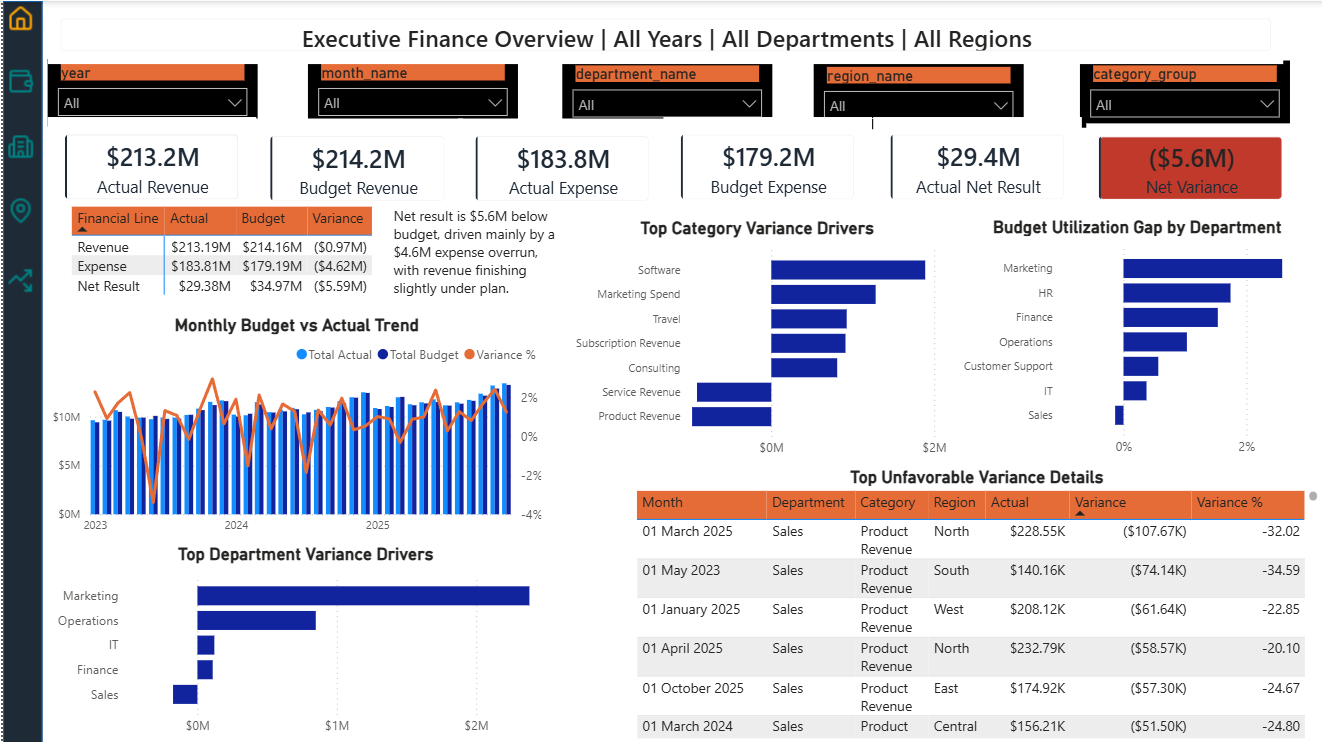

Layout of this report page (visuals, bound fields, positions):
{"tool":"powerbi","page":{"name":"Executive Overview","canvas":[1280,720],"ordinal":0},"visuals":[{"type":"shape","box":[0,0,38.3,720],"z":0,"group":"g1"},{"type":"slicer","fields":{"Values":["dim_date.year"]},"box":[42.7,56.9,203.9,65.2],"z":0},{"type":"slicer","fields":{"Values":["dim_date.month_name"]},"box":[296.3,56.9,203.9,65.2],"z":1000},{"type":"actionButton","box":[0,60,40,34.3],"z":1000,"group":"g1"},{"type":"slicer","fields":{"Values":["dim_department.department_name"]},"box":[542.8,58.1,203.9,65.2],"z":2000},{"type":"actionButton","box":[0,124.3,40,34.3],"z":2000,"group":"g1"},{"type":"slicer","fields":{"Values":["dim_region.region_name"]},"box":[785.8,59.3,203.9,65.2],"z":3000},{"type":"actionButton","box":[0,185.7,40,34.3],"z":3000,"group":"g1"},{"type":"slicer","fields":{"Values":["dim_category.category_group"]},"box":[1044.1,58.1,203.9,65.2],"z":4000},{"type":"actionButton","box":[0,254.3,40,34.3],"z":4000,"group":"g1"},{"type":"actionButton","box":[0,0,40,34.3],"z":5000,"group":"g1"},{"type":"cardVisual","fields":{"Data":["_Measures.Actual Revenue"]},"box":[42.7,112.6,202.7,97.2],"z":5000},{"type":"cardVisual","fields":{"Data":["_Measures.Budget Revenue"]},"box":[241.8,113.8,203.9,97.2],"z":6000},{"type":"cardVisual","fields":{"Data":["_Measures.Actual Expense"]},"box":[440.9,113.8,202.7,97.2],"z":7000},{"type":"cardVisual","fields":{"Data":["_Measures.Budget Expense"]},"box":[641.2,112.6,202.7,97.2],"z":8000},{"type":"cardVisual","fields":{"Data":["_Measures.Actual Net Result"]},"box":[843.9,112.6,202.7,97.2],"z":9000},{"type":"cardVisual","fields":{"Data":["_Measures.Net Variance"]},"box":[1046.5,113.8,212.1,96],"z":10000},{"type":"pivotTable","fields":{"Rows":["Finance Metric Selector.Metric"],"Values":["_Measures.Actual by Metric","_Measures.Budget by Metric","_Measures.Variance by Metric"]},"box":[61.7,194.9,312.9,109.8],"z":11000},{"type":"lineClusteredColumnComboChart","title":"Monthly Budget vs Actual Trend","fields":{"Category":["vw_monthly_budget_vs_actual.month_start_fixed"],"Y":["_Measures.Total Actual","_Measures.Total Budget"],"Y2":["_Measures.Variance %"]},"box":[42.8,303.7,483.4,222.5],"z":12000},{"type":"clusteredBarChart","title":"Top Department Variance Drivers","fields":{"Category":["dim_department.department_name"],"Y":["_Measures.Variance"]},"box":[42.8,526.2,500.5,194.7],"z":13000},{"type":"clusteredBarChart","title":"Top Category Variance Drivers","fields":{"Category":["dim_category.category_name"],"Y":["_Measures.Variance"]},"box":[542,210,378,241],"z":14000},{"type":"tableEx","title":"Top Unfavorable Variance Details","fields":{"Values":["vw_unfavorable_variances.month_start_fixed","vw_unfavorable_variances.department_name","vw_unfavorable_variances.category_name","vw_unfavorable_variances.region_name","Sum(vw_unfavorable_variances.total_actual)","Sum(vw_unfavorable_variances.variance_amount)","Sum(vw_unfavorable_variances.variance_pct)"]},"box":[608.6,451.4,671.4,268.6],"z":15000},{"type":"clusteredBarChart","title":"Budget Utilization Gap by Department","fields":{"Category":["dim_department.department_name"],"Y":["_Measures.Budget Utilization Gap"]},"box":[919.8,209.9,359.4,241.1],"z":16000},{"type":"cardVisual","fields":{"Data":["_Measures.Executive Overview Title"]},"box":[39.1,0,1208.9,66.4],"z":17000},{"type":"textbox","box":[374,195,168,100],"z":18000},{"type":"actionButton","box":[0,686.5,40.2,33.5],"z":19000},{"type":"group","id":"g1","title":"Group 1","box":[0,0,40,720],"z":20000}]}

Visuals, with their boxes on the page's 1280x720 design canvas (x1, y1, x2, y2). These are canvas units, not pixel positions in the 1322x742 screenshot, which may show the page scaled, cropped or inside an application window:
shape: (left=0, top=0, right=38, bottom=720)
slicer - dim_date.year: (left=43, top=57, right=247, bottom=122)
slicer - dim_date.month_name: (left=296, top=57, right=500, bottom=122)
actionButton: (left=0, top=60, right=40, bottom=94)
slicer - dim_department.department_name: (left=543, top=58, right=747, bottom=123)
actionButton: (left=0, top=124, right=40, bottom=159)
slicer - dim_region.region_name: (left=786, top=59, right=990, bottom=124)
actionButton: (left=0, top=186, right=40, bottom=220)
slicer - dim_category.category_group: (left=1044, top=58, right=1248, bottom=123)
actionButton: (left=0, top=254, right=40, bottom=289)
actionButton: (left=0, top=0, right=40, bottom=34)
cardVisual - _Measures.Actual Revenue: (left=43, top=113, right=245, bottom=210)
cardVisual - _Measures.Budget Revenue: (left=242, top=114, right=446, bottom=211)
cardVisual - _Measures.Actual Expense: (left=441, top=114, right=644, bottom=211)
cardVisual - _Measures.Budget Expense: (left=641, top=113, right=844, bottom=210)
cardVisual - _Measures.Actual Net Result: (left=844, top=113, right=1047, bottom=210)
cardVisual - _Measures.Net Variance: (left=1046, top=114, right=1259, bottom=210)
pivotTable - Finance Metric Selector.Metric x _Measures.Actual by Metric: (left=62, top=195, right=375, bottom=305)
"Monthly Budget vs Actual Trend" lineClusteredColumnComboChart: (left=43, top=304, right=526, bottom=526)
"Top Department Variance Drivers" clusteredBarChart: (left=43, top=526, right=543, bottom=721)
"Top Category Variance Drivers" clusteredBarChart: (left=542, top=210, right=920, bottom=451)
"Top Unfavorable Variance Details" tableEx: (left=609, top=451, right=1280, bottom=720)
"Budget Utilization Gap by Department" clusteredBarChart: (left=920, top=210, right=1279, bottom=451)
cardVisual - _Measures.Executive Overview Title: (left=39, top=0, right=1248, bottom=66)
textbox: (left=374, top=195, right=542, bottom=295)
actionButton: (left=0, top=686, right=40, bottom=720)
"Group 1" group: (left=0, top=0, right=40, bottom=720)
